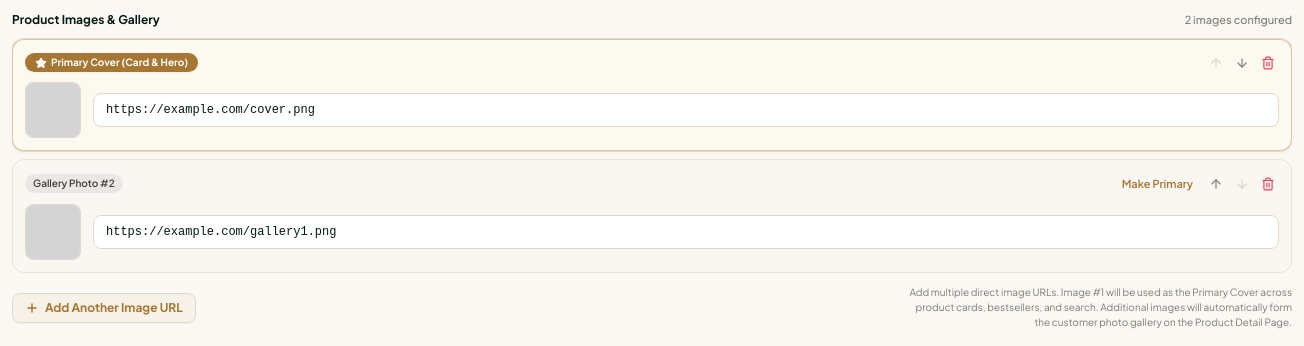
MultipleImageUrlsEditor Component Suite › supports reordering images and removing an image
The image size is (1304, 346).
What coordinates should you click on to do the following:
click the button titled "Move down in gallery order" in the row of "Primary Cover (Card & Hero)"
I would click on:
 (1242, 62)
Its box is 1231,52 -> 1253,74.
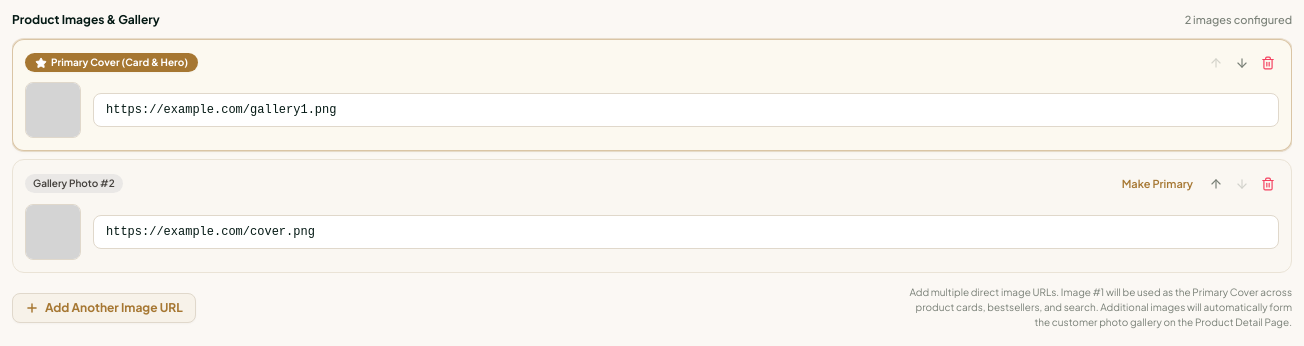
Now the field with placeholder "https://... direct image link or /assets/photo.png" below "Primary Cover (Card & Hero)" holds "https://example.com/gallery1.png", box 93,92 -> 1279,126
Now the field with placeholder "https://... direct image link or /assets/photo.png" below "Gallery Photo #" holds "https://example.com/cover.png", box 93,215 -> 1279,249
What coordinates should you click on to do the following:
click the button titled "Remove this image" in the row of "Primary Cover (Card & Hero)"
I would click on:
 (1268, 62)
Its box is 1257,52 -> 1279,74.
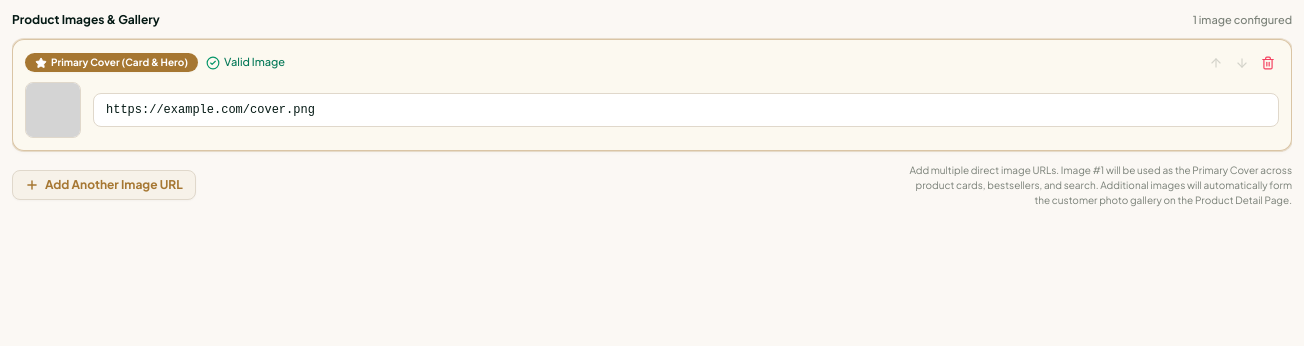
Now the number of fields with placeholder "https://... direct image link or /assets/photo.png" is 1, box 93,92 -> 1279,126
Now the field with placeholder "https://... direct image link or /assets/photo.png" holds "https://example.com/cover.png", box 93,92 -> 1279,126
